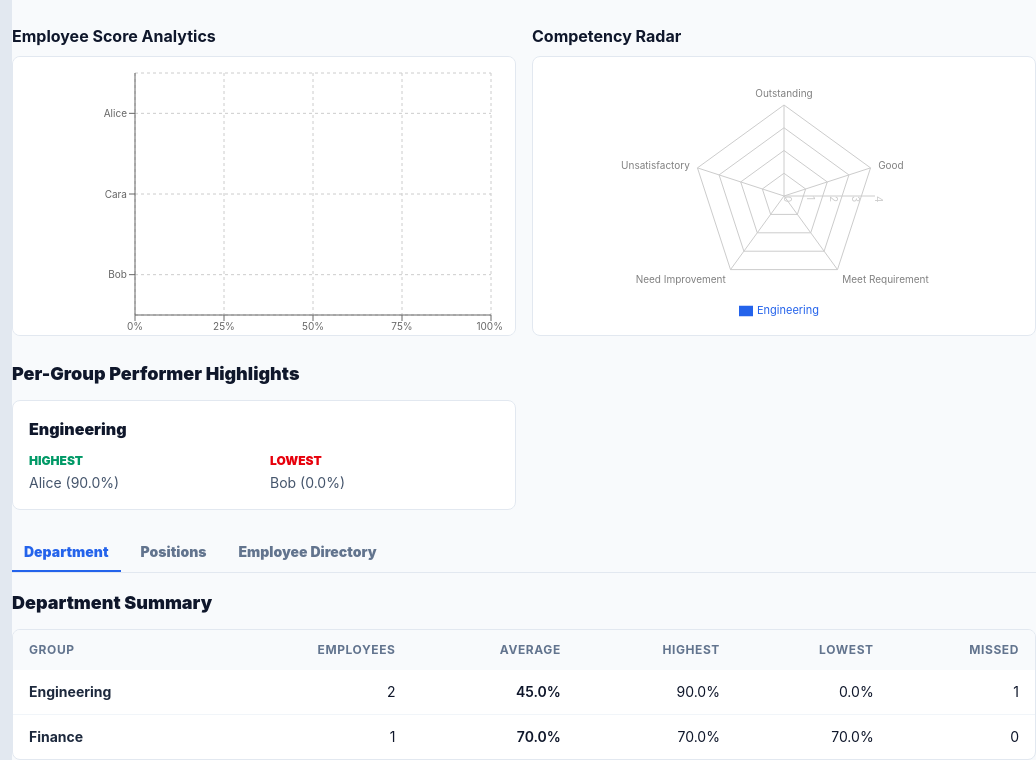
it: SelfAssessmentReportPage › HR Employee Directory shows employees across departments by default
(page scrolled)
Click the button "Employee Directory" at [308, 553], box left=226, top=534, right=389, bottom=572
(page scrolled)
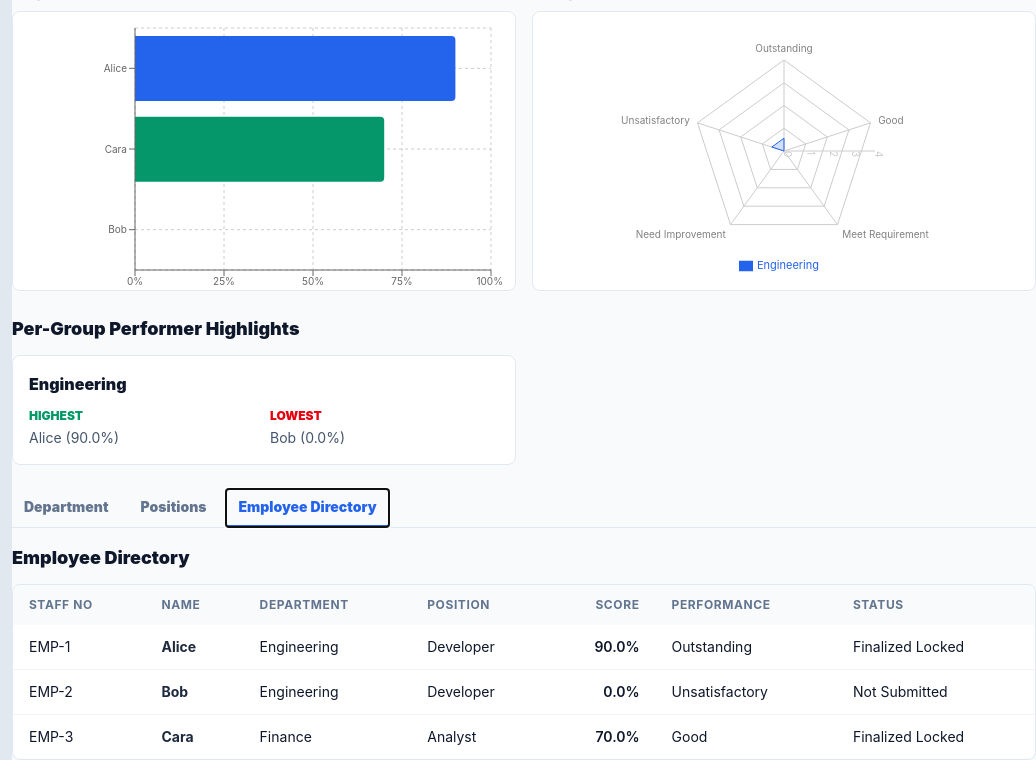
Now the text "Alice" is shown, box left=146, top=625, right=244, bottom=670
Now the text "Cara" is shown, box left=146, top=714, right=244, bottom=759
